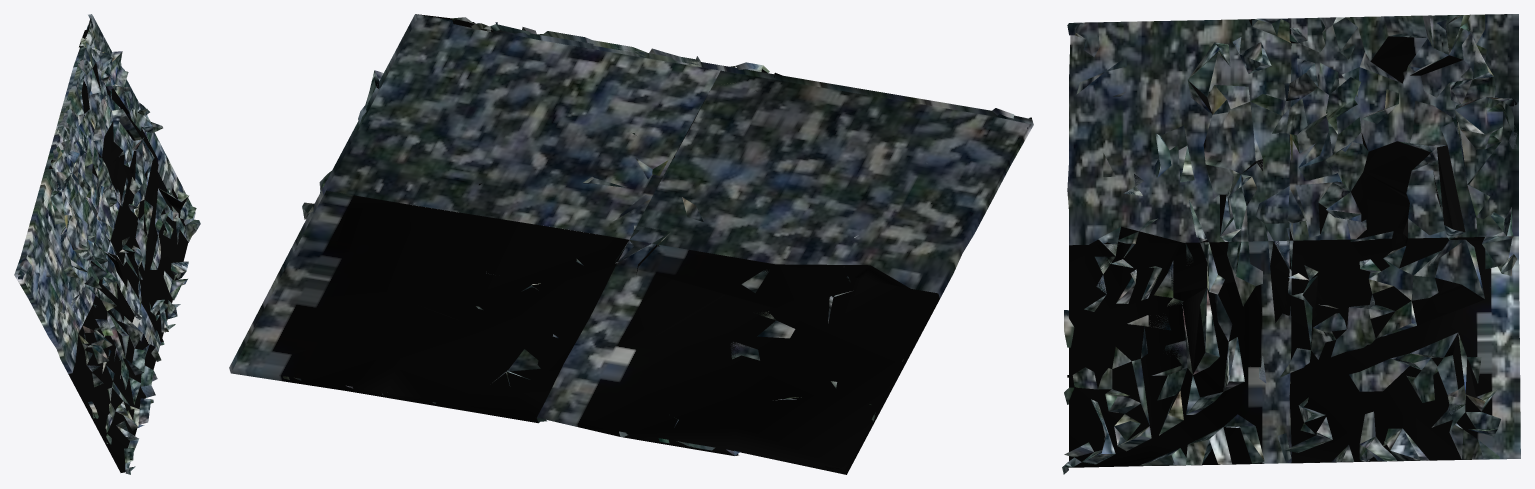
The picture shows the model from 3 angles, left to right: view 1: azimuth 30°, elevation 25°; view 2: azimuth 150°, elevation 25°; view 3: azimuth 270°, elevation 25°; orthographic projection. The views are drawn at different scales.
Parts seen in each view (by area): view 1: node_304362727043705_mesh0; view 2: node_304362727043705_mesh0; view 3: node_304362727043705_mesh0.
Part boxes in pixels (x1,y1,x2,y2): node_304362727043705_mesh0: (14, 14, 200, 474); node_304362727043705_mesh0: (229, 14, 1033, 474); node_304362727043705_mesh0: (1062, 14, 1520, 474).
Bounding box in the file's own units: 1162 × 1169 × 900.
Materials: 1 (1 with a texture image).
